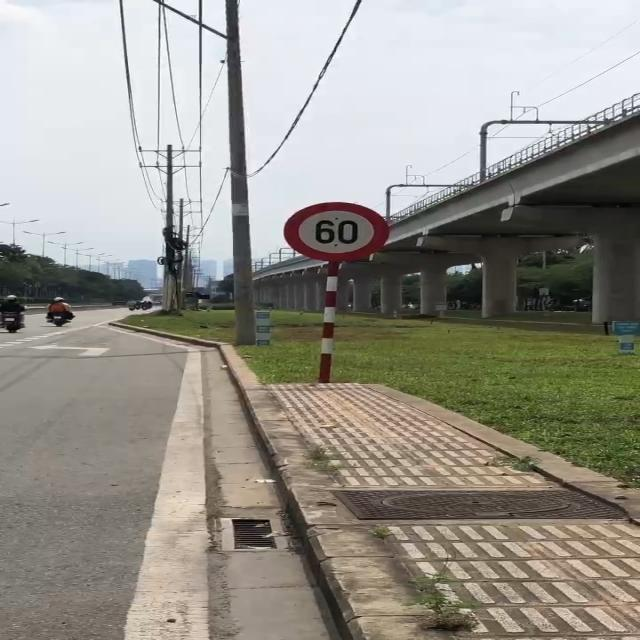Bien bao toc do toi da cho phep: (277, 200, 404, 265)
